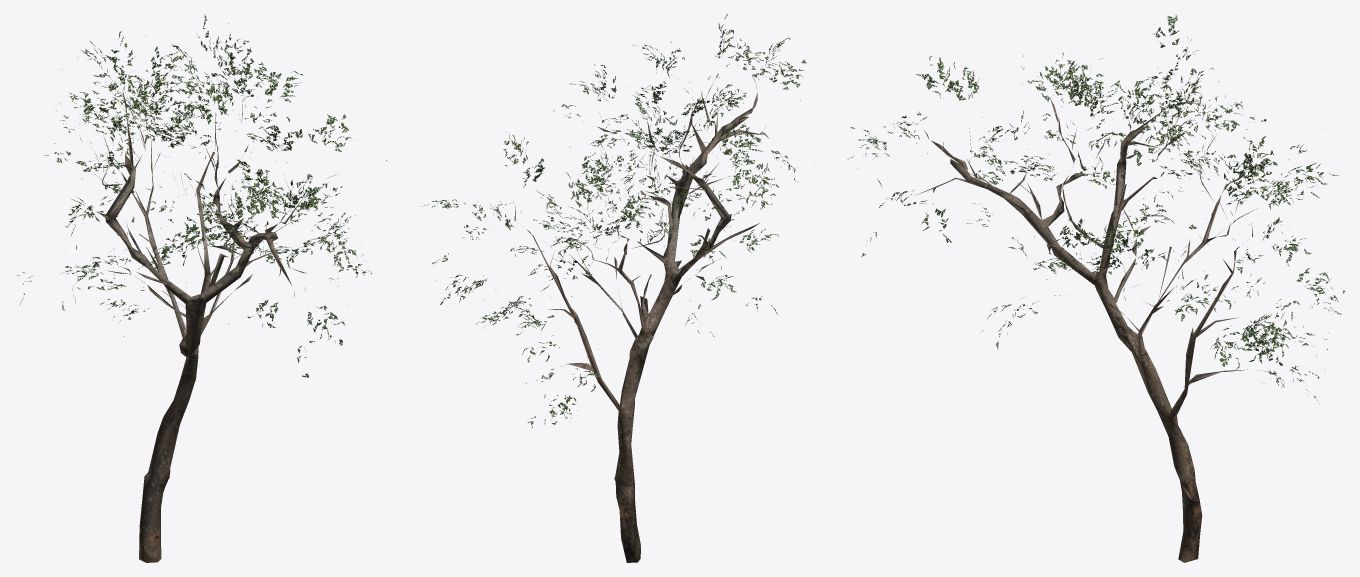
File: tree_small_02_lod0.glb
3 renders of one model, left to right at view 1: azimuth 30°, elevation 25°; view 2: azimuth 150°, elevation 25°; view 3: azimuth 270°, elevation 25°, orthographic. The views are drawn at different scales.
Visible parts, largest first — view 1: drivinglab.hero.tree.lod0-part1, drivinglab.hero.tree.lod0-part2, drivinglab.hero.tree.lod0-part0; view 2: drivinglab.hero.tree.lod0-part1, drivinglab.hero.tree.lod0-part2, drivinglab.hero.tree.lod0-part0; view 3: drivinglab.hero.tree.lod0-part1, drivinglab.hero.tree.lod0-part2, drivinglab.hero.tree.lod0-part0.
Part boxes in pixels (bbox=[...]): drivinglab.hero.tree.lod0-part1: bbox=[17, 14, 386, 377]; drivinglab.hero.tree.lod0-part2: bbox=[100, 152, 290, 562]; drivinglab.hero.tree.lod0-part0: bbox=[73, 57, 341, 350]; drivinglab.hero.tree.lod0-part1: bbox=[422, 14, 806, 428]; drivinglab.hero.tree.lod0-part2: bbox=[532, 116, 748, 562]; drivinglab.hero.tree.lod0-part0: bbox=[514, 45, 780, 379]; drivinglab.hero.tree.lod0-part1: bbox=[847, 15, 1344, 400]; drivinglab.hero.tree.lod0-part2: bbox=[950, 120, 1236, 562]; drivinglab.hero.tree.lod0-part0: bbox=[877, 73, 1270, 386].
Bounding box in the file's own units: 2.87 × 4.54 × 4.01.
Materials: 3 (3 with a texture image).
